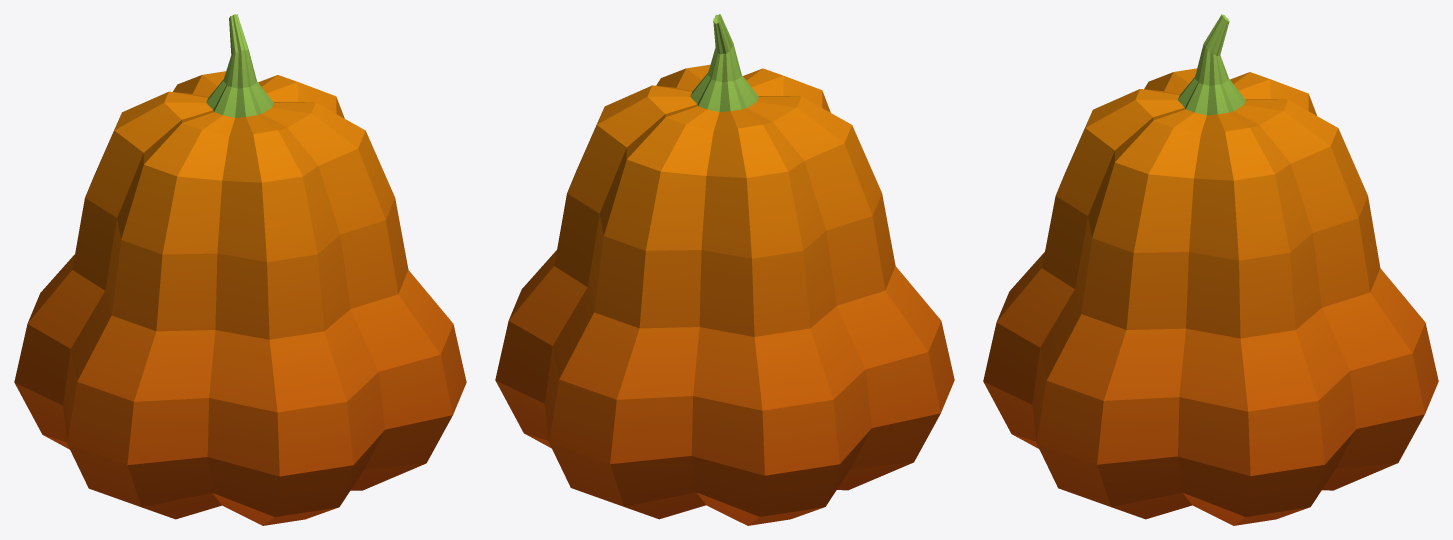
Rendered from pumpkin 2.fbx.
3 views of the same model, side by side, from view 1: azimuth 30°, elevation 25°; view 2: azimuth 150°, elevation 25°; view 3: azimuth 270°, elevation 25° (orthographic).
Parts seen in each view (by area): view 1: pumpkin 2; view 2: pumpkin 2; view 3: pumpkin 2.
Boxes of the visible parts, x1,y1,x2,y2 form: pumpkin 2: [14, 14, 466, 525]; pumpkin 2: [495, 14, 954, 525]; pumpkin 2: [983, 14, 1438, 525].
Bounding box in the file's own units: 47.95 × 53.91 × 48.69.
